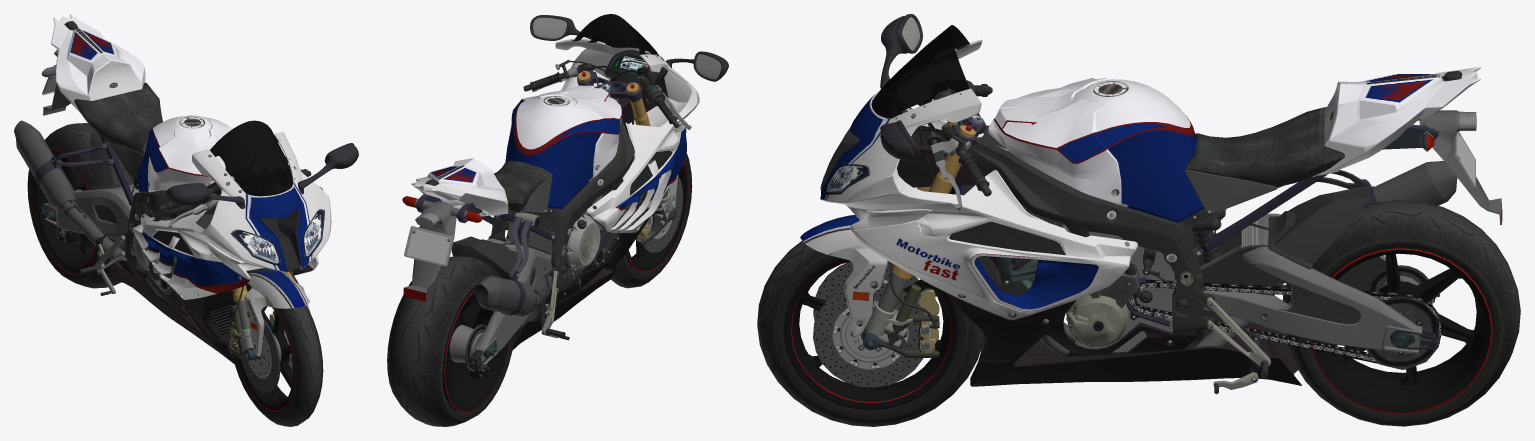
File: Motorbike 8.FBX
3 renders of one model, left to right at view 1: azimuth 30°, elevation 25°; view 2: azimuth 150°, elevation 25°; view 3: azimuth 270°, elevation 25°, orthographic. The views are drawn at different scales.
Parts seen in each view (by area): view 1: Body, Wheel_F, Wheel_B, Forks_rear, Mudguard, Steer; view 2: Body, Wheel_B, Forks_rear, Steer, Wheel_F, Mudguard; view 3: Body, Wheel_B, Wheel_F, Forks_rear, Mudguard, Steer.
Boxes of the visible parts, left/top/right/bottom form: Body: left=14, top=14, right=358, bottom=363; Wheel_F: left=229, top=284, right=323, bottom=426; Wheel_B: left=27, top=123, right=125, bottom=288; Forks_rear: left=40, top=129, right=138, bottom=244; Mudguard: left=227, top=268, right=309, bottom=360; Steer: left=159, top=165, right=323, bottom=301; Body: left=402, top=14, right=728, bottom=349; Wheel_B: left=387, top=256, right=514, bottom=426; Forks_rear: left=451, top=235, right=552, bottom=378; Steer: left=523, top=60, right=691, bottom=129; Wheel_F: left=611, top=153, right=692, bottom=288; Mudguard: left=637, top=174, right=678, bottom=244; Body: left=820, top=14, right=1502, bottom=394; Wheel_B: left=1282, top=200, right=1520, bottom=426; Wheel_F: left=757, top=241, right=983, bottom=426; Forks_rear: left=1130, top=185, right=1441, bottom=367; Mudguard: left=800, top=187, right=939, bottom=357; Steer: left=892, top=80, right=992, bottom=279.
Bounding box in the file's own units: 56.07 × 80.42 × 140.
6 materials, 4 textured.
